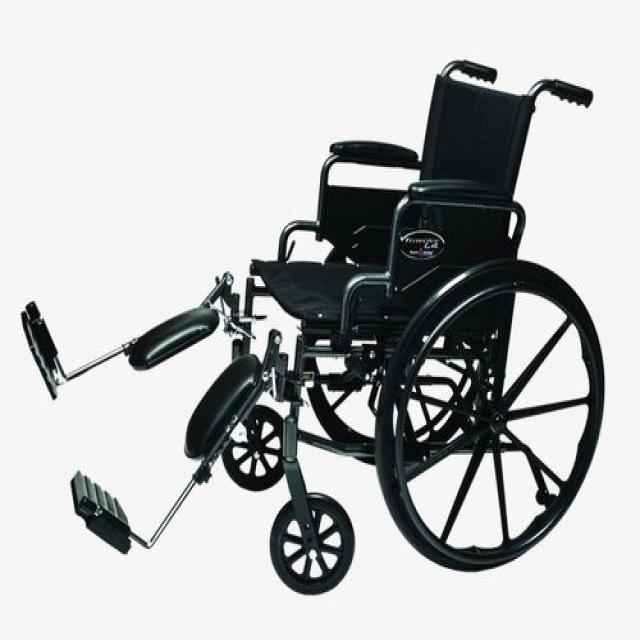wheelchairs: (6, 5, 635, 608)
